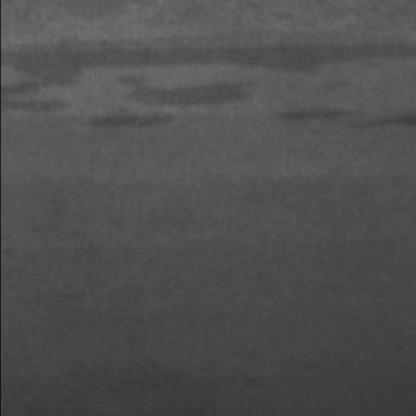inclusion: (6, 36, 416, 81), (87, 77, 266, 135), (279, 102, 416, 135), (4, 75, 73, 116)
